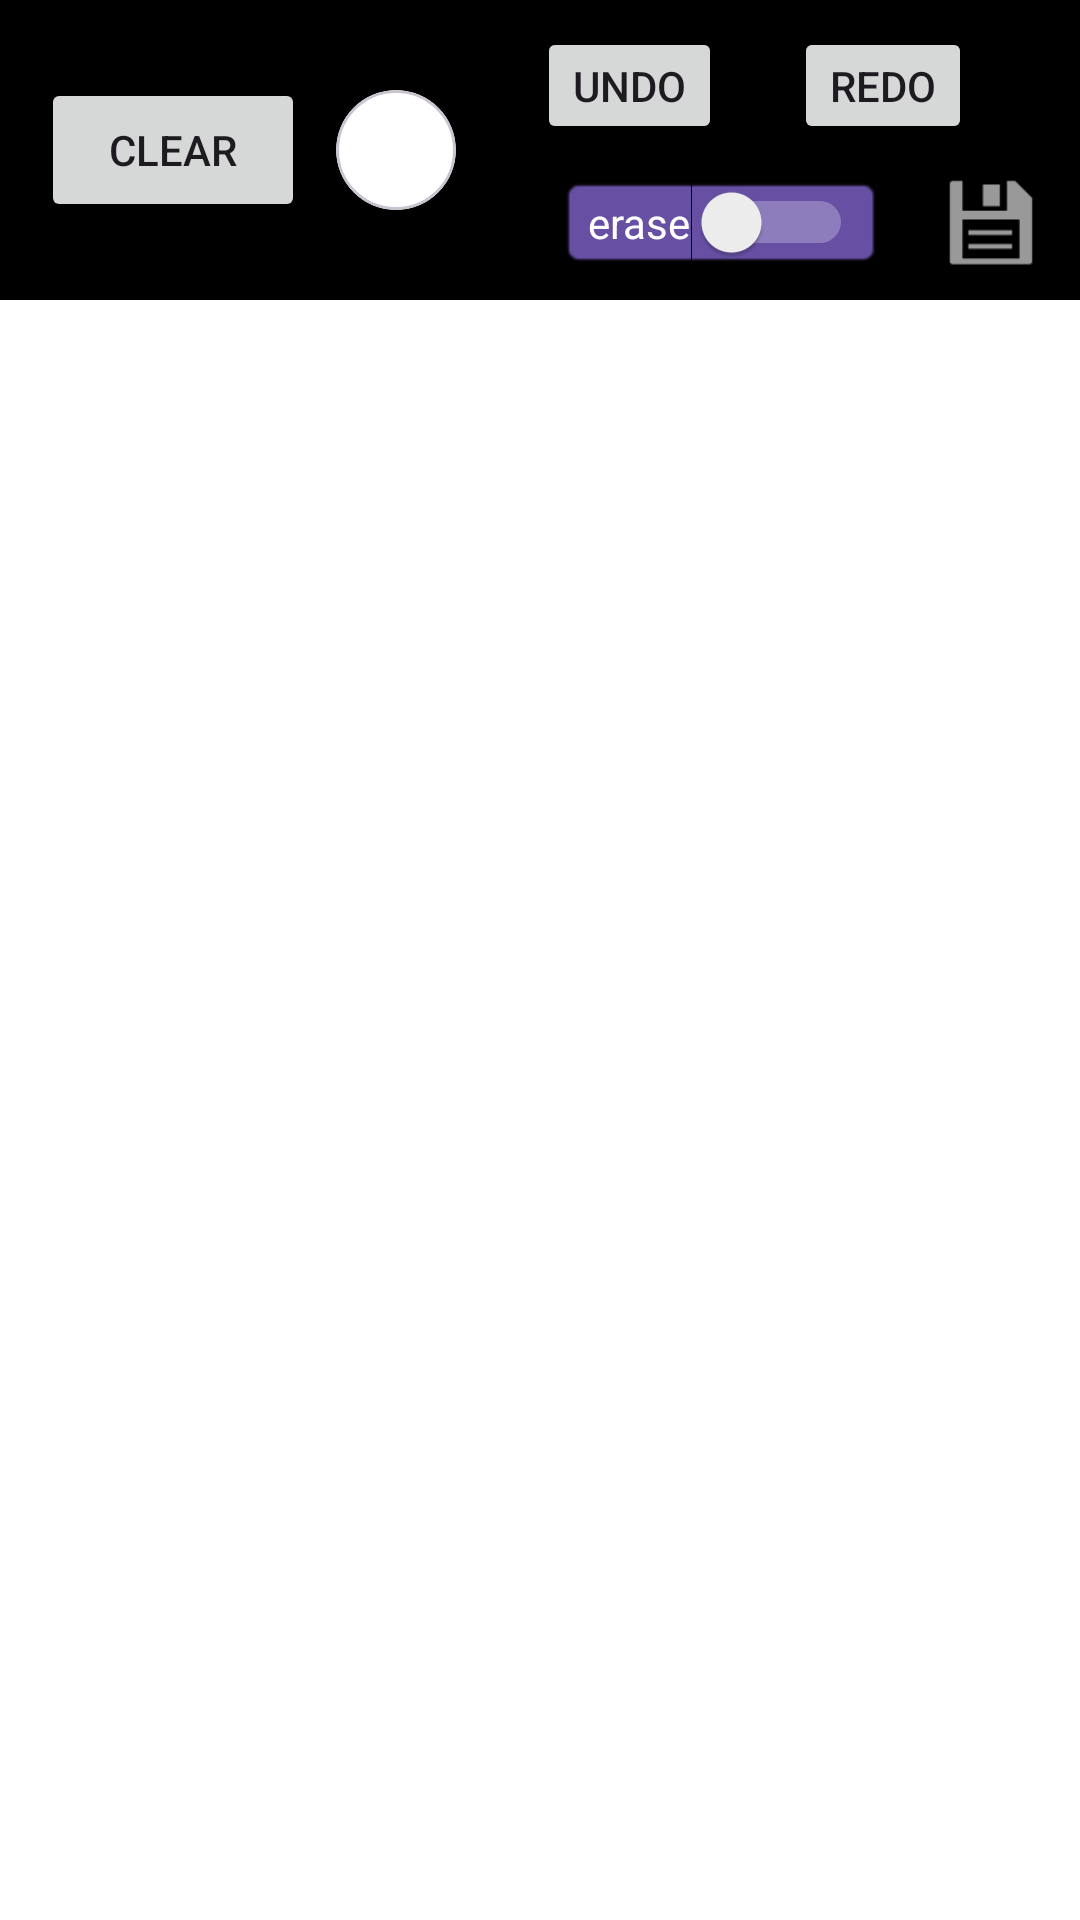

Where to tap for icons on this 1080w x 1920h app screen, as (x=x, y=y):
save: (x=991, y=222)
